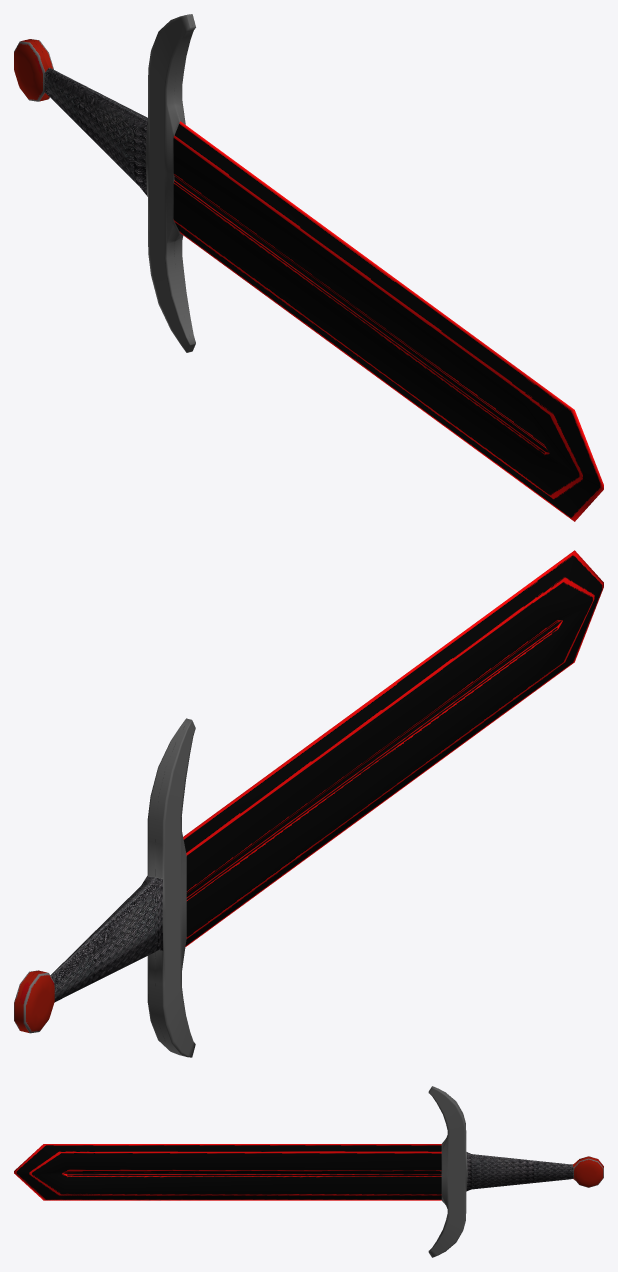
The model's file is Sword.fbx.
3 views of the same model, one above another, from view 1: azimuth 30°, elevation 25°; view 2: azimuth 150°, elevation 25°; view 3: azimuth 270°, elevation 25° (orthographic). The views are drawn at different scales.
Parts seen in each view (by area): view 1: Sword; view 2: Sword; view 3: Sword.
Boxes of the visible parts, <box> form: Sword: <box>14,14,603,521</box>; Sword: <box>14,550,603,1057</box>; Sword: <box>14,1086,603,1257</box>.
Size of the model in its own units: 4.09 by 46.08 by 145.
